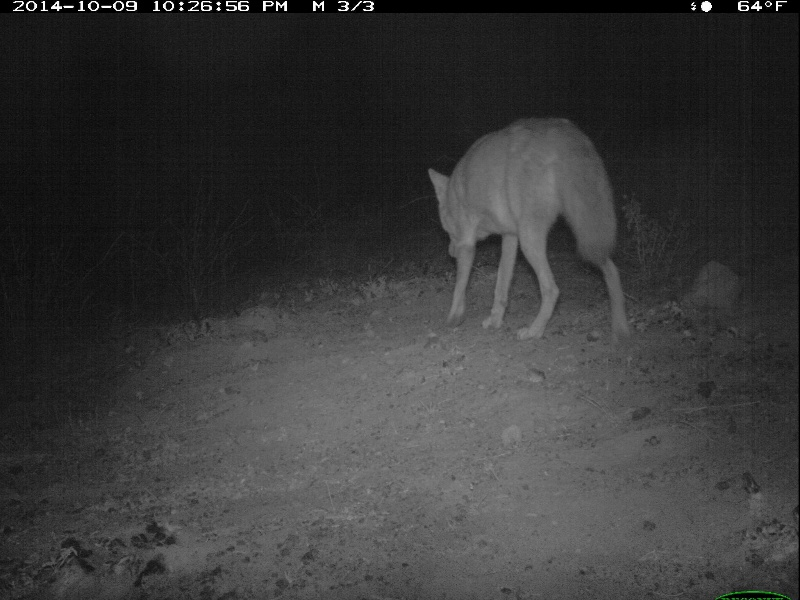coyote: (423, 113, 636, 346)
